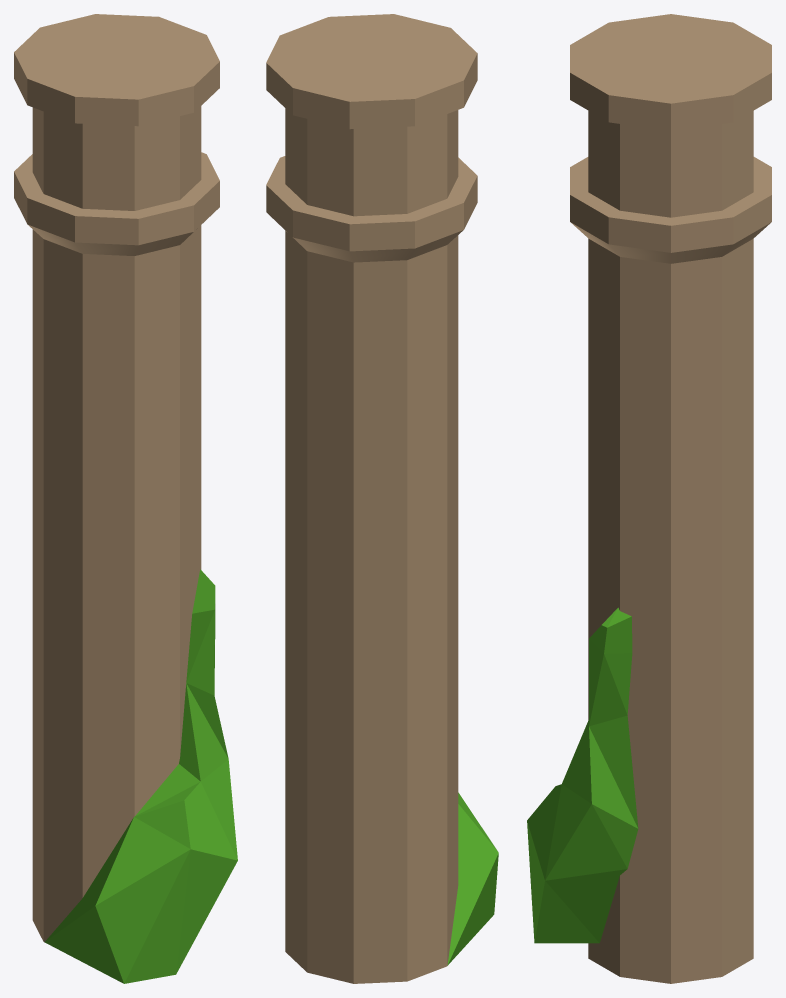
The model's file is 3D_obstacle_column_nobase_moss_01.fbx.
The picture shows the model from 3 angles, left to right: view 1: azimuth 30°, elevation 25°; view 2: azimuth 150°, elevation 25°; view 3: azimuth 270°, elevation 25°; orthographic projection. The views are drawn at different scales.
Parts seen in each view (by area): view 1: SM_colomn_nobase_moss_01; view 2: SM_colomn_nobase_moss_01; view 3: SM_colomn_nobase_moss_01.
Boxes of the visible parts, box(x1,y1,x2,y2) form: SM_colomn_nobase_moss_01: box(14, 14, 237, 983); SM_colomn_nobase_moss_01: box(266, 14, 498, 983); SM_colomn_nobase_moss_01: box(527, 14, 771, 983).
Size of the model in its own units: 84 by 388 by 96.96.
Materials: 1 (1 with a texture image).
